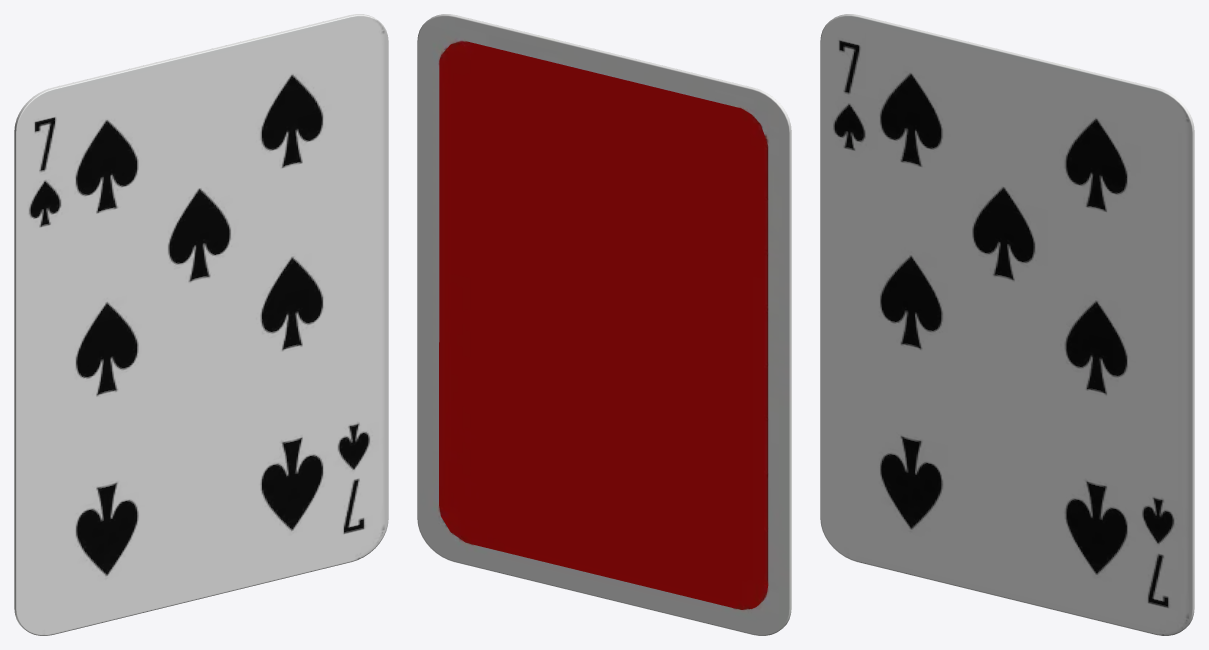
File: spades_7.glb
The picture shows the model from 3 angles, left to right: view 1: azimuth 30°, elevation 25°; view 2: azimuth 150°, elevation 25°; view 3: azimuth 330°, elevation 25°; orthographic projection.
Visible parts, largest first — view 1: defaultMaterial.005; view 2: defaultMaterial.005; view 3: defaultMaterial.005.
Part boxes in pixels (box(x1,y1,x2,y2)): defaultMaterial.005: box(14, 14, 388, 635); defaultMaterial.005: box(417, 14, 791, 635); defaultMaterial.005: box(820, 14, 1194, 635).
Size of the model in its own units: 0.1408 by 0.1972 by 0.00111.
Materials: 1 (1 with a texture image).
